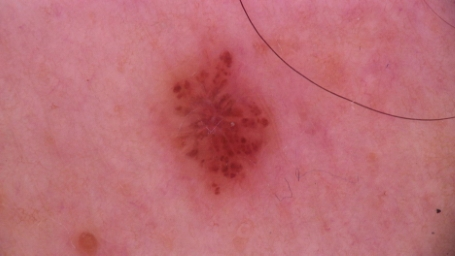nevus: (169, 51, 270, 195)
